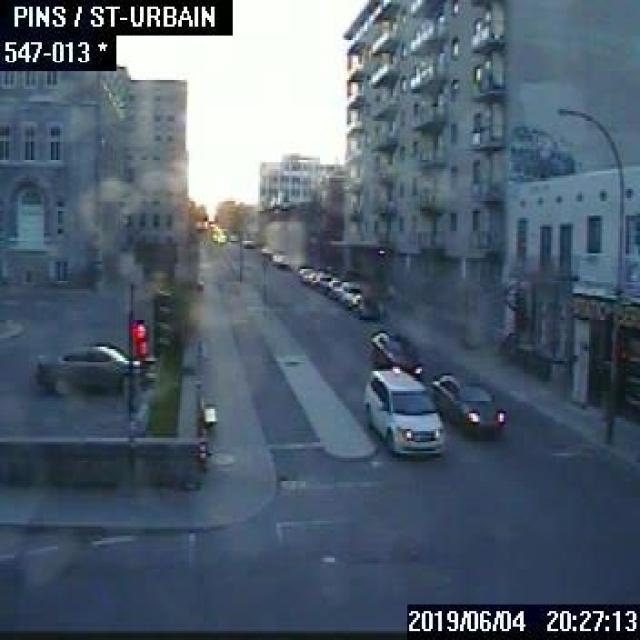vehicle: (362, 367, 446, 454), (34, 344, 153, 394), (430, 372, 506, 434), (368, 328, 422, 375), (84, 335, 154, 363), (338, 280, 362, 304), (327, 276, 342, 296), (270, 249, 287, 266), (297, 266, 313, 280), (317, 274, 330, 291), (310, 270, 322, 284), (242, 237, 254, 246)
